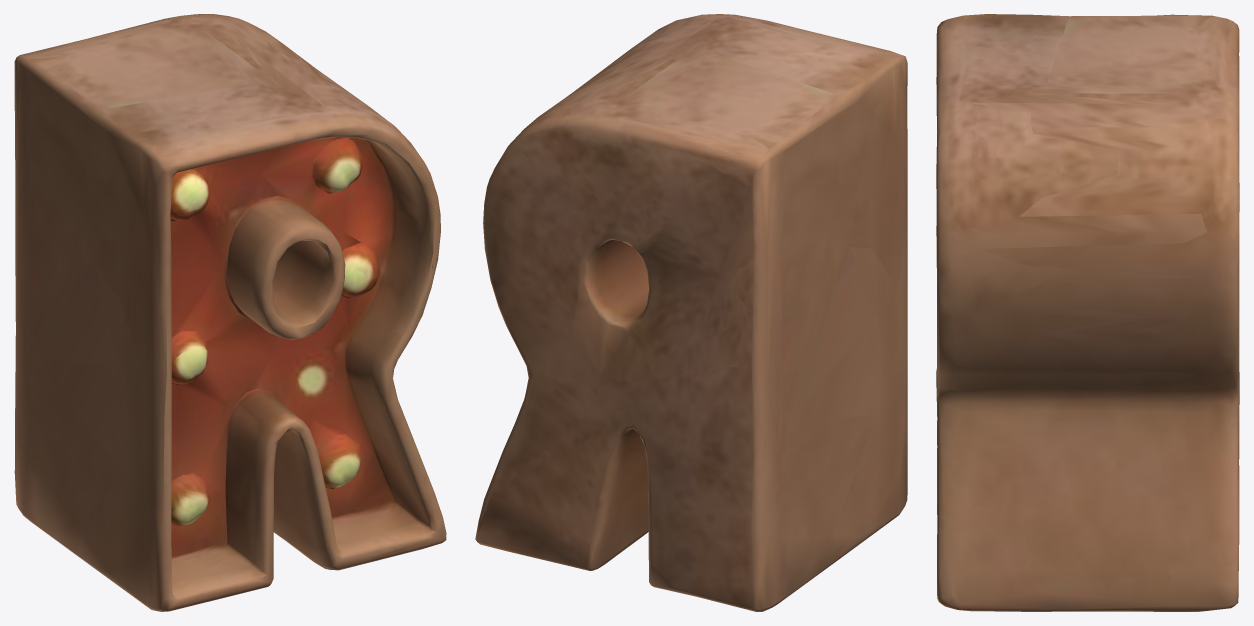
Rendered from letter_r_idle.glb.
3 views of the same model, side by side, from view 1: azimuth 30°, elevation 25°; view 2: azimuth 150°, elevation 25°; view 3: azimuth 270°, elevation 25° (orthographic).
Visible parts, largest first — view 1: tmp_letters_partial_l_s_05; view 2: tmp_letters_partial_l_s_05; view 3: tmp_letters_partial_l_s_05.
Boxes of the visible parts, left/top/right/bottom form: tmp_letters_partial_l_s_05: left=14, top=14, right=446, bottom=611; tmp_letters_partial_l_s_05: left=475, top=14, right=907, bottom=611; tmp_letters_partial_l_s_05: left=936, top=14, right=1239, bottom=611.
Size of the model in its own units: 0.6624 by 0.9991 by 0.5957.
1 material, 1 textured.
